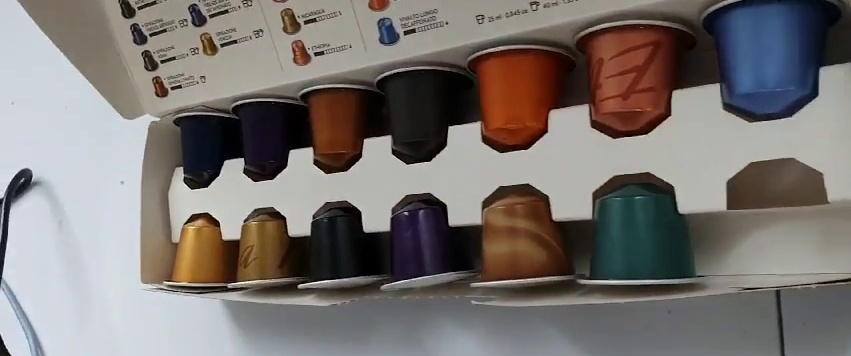capsule_1: (177, 112, 243, 186)
capsule_10: (297, 203, 387, 292)
capsule_11: (380, 203, 480, 291)
capsule_12: (474, 187, 582, 291)
capsule_13: (582, 179, 711, 289)
capsule_2: (233, 97, 315, 184)
capsule_3: (297, 83, 392, 173)
capsule_4: (374, 66, 476, 162)
capsule_5: (464, 40, 577, 147)
capsule_6: (578, 17, 700, 133)
capsule_7: (703, 4, 843, 120)
capsule_8: (160, 214, 237, 293)
capsule_9: (229, 207, 305, 288)
